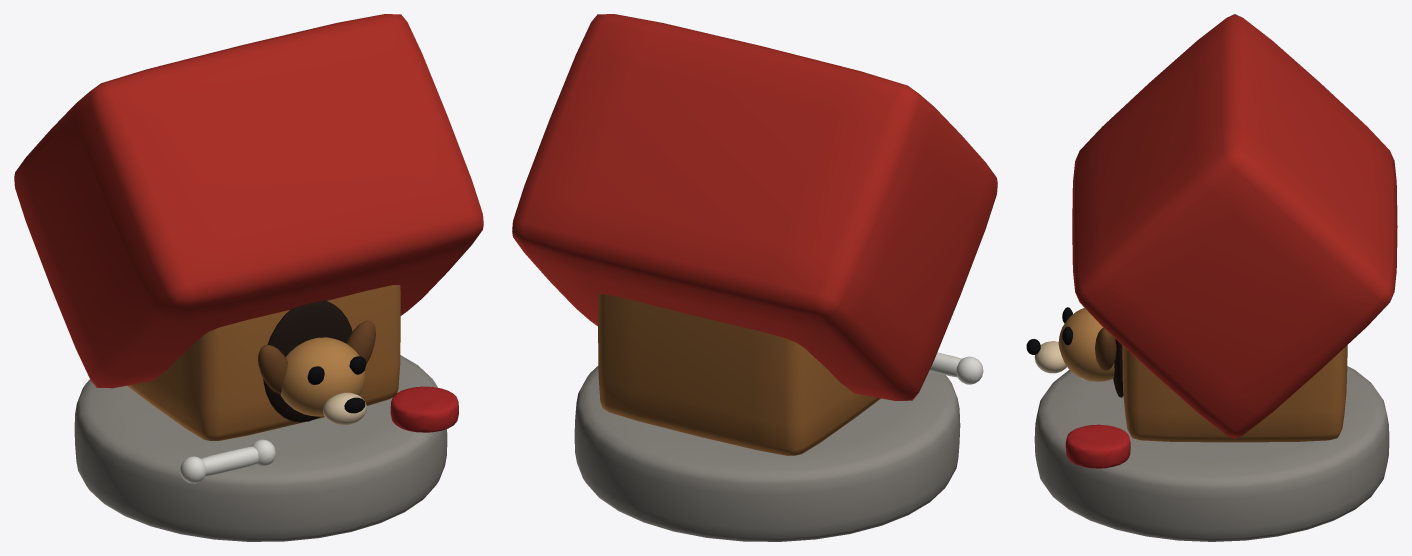
Rendered from Hundehuette.fbx.
The picture shows the model from 3 angles, left to right: view 1: azimuth 30°, elevation 25°; view 2: azimuth 150°, elevation 25°; view 3: azimuth 270°, elevation 25°; orthographic projection. The views are drawn at different scales.
Parts seen in each view (by area): view 1: Hundehuette; view 2: Hundehuette; view 3: Hundehuette.
Boxes of the visible parts, box(x1,y1,x2,y2) form: Hundehuette: box(14, 14, 483, 541); Hundehuette: box(512, 14, 997, 541); Hundehuette: box(1026, 14, 1397, 541).
Bounding box in the file's own units: 0.9562 × 1.15 × 0.9775.
